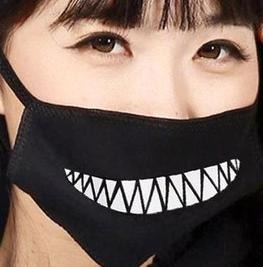with_mask: (2, 1, 263, 267)
